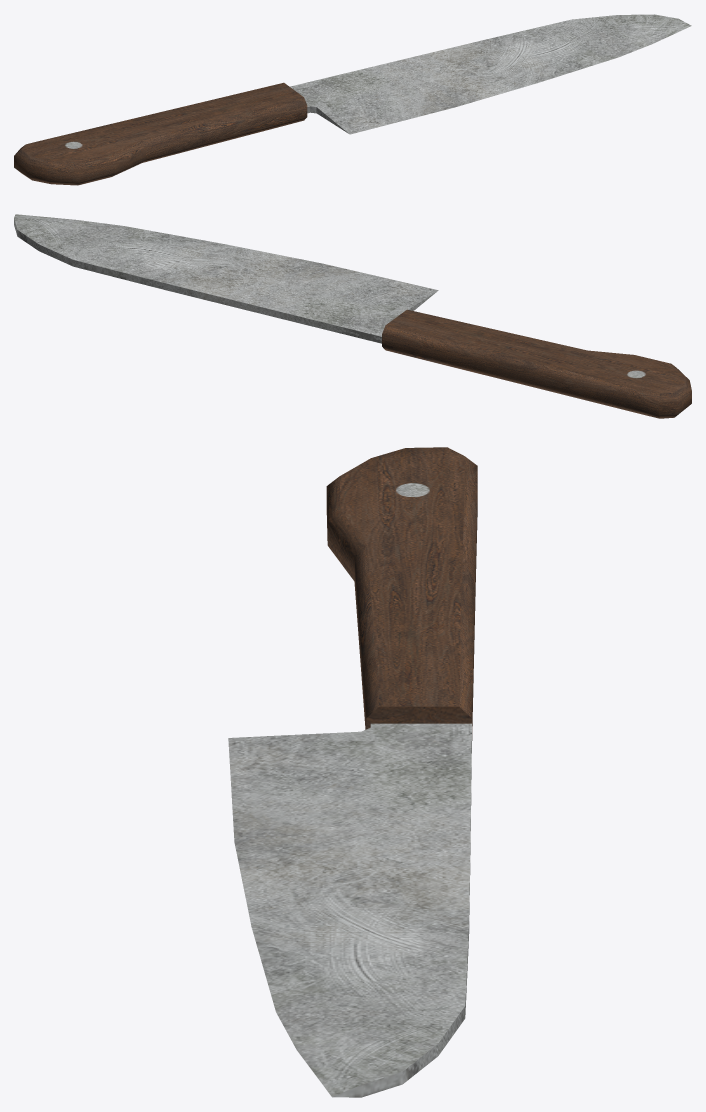
File: CurseKnife.fbx
The picture shows the model from 3 angles, top to bottom: view 1: azimuth 30°, elevation 25°; view 2: azimuth 150°, elevation 25°; view 3: azimuth 270°, elevation 25°; orthographic projection. The views are drawn at different scales.
Parts seen in each view (by area): view 1: blade, handle; view 2: blade, handle; view 3: blade, handle.
Part boxes in pixels (bbox=[...]): blade: bbox=[290, 14, 691, 134]; handle: bbox=[14, 82, 307, 185]; blade: bbox=[14, 214, 438, 343]; handle: bbox=[382, 309, 691, 418]; blade: bbox=[228, 723, 471, 1097]; handle: bbox=[326, 447, 477, 740].
Bounding box in the file's own units: 43.62 × 1.5 × 7.27.
